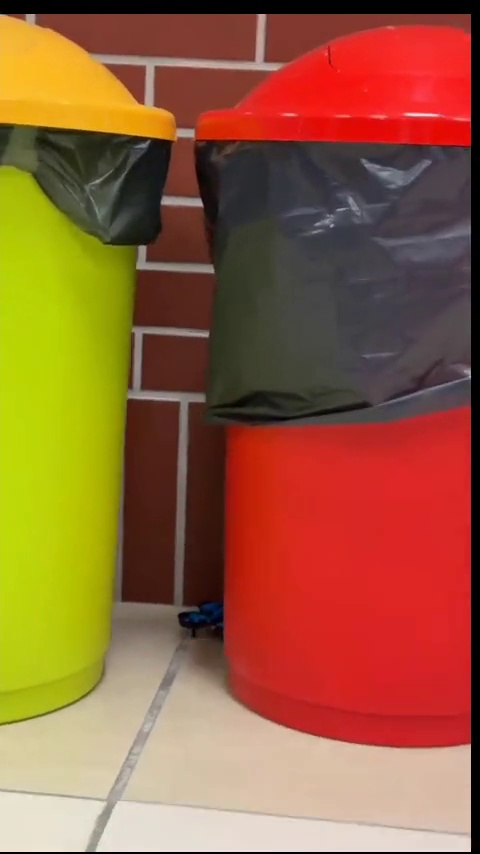drone: (175, 601, 223, 647)
